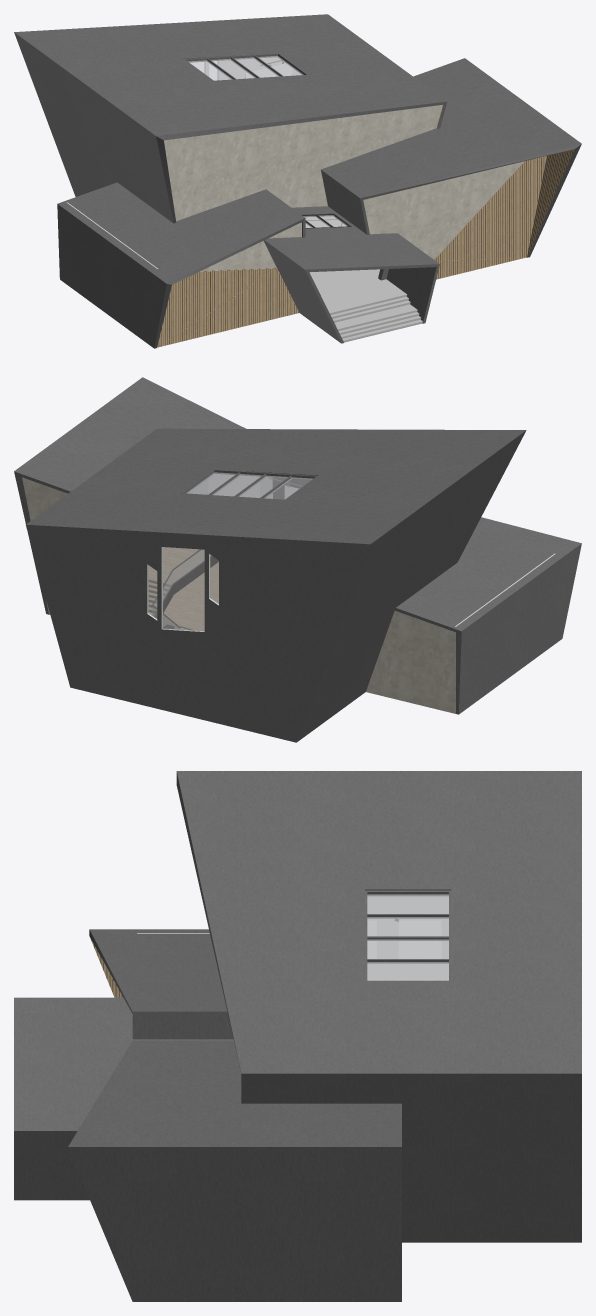
The model's file is Art Gallery Binus Digital.fbx.
3 renders of one model, top to bottom at view 1: azimuth 30°, elevation 25°; view 2: azimuth 150°, elevation 25°; view 3: azimuth 270°, elevation 25°, orthographic. The views are drawn at different scales.
Parts seen in each view (by area): view 1: Gallery Group, Group1-grey_ind.001; view 2: Gallery Group, Group1-grey_ind.001, Square Picture.026; view 3: Gallery Group, Square Picture.008.
Part boxes in pixels (bbox=[...]): Gallery Group: bbox=[14, 14, 581, 348]; Group1-grey_ind.001: bbox=[309, 269, 422, 342]; Gallery Group: bbox=[14, 377, 581, 742]; Group1-grey_ind.001: bbox=[148, 547, 218, 630]; Square Picture.026: bbox=[208, 474, 259, 497]; Gallery Group: bbox=[14, 771, 581, 1301]; Square Picture.008: bbox=[398, 920, 441, 958].
Size of the model in its own units: 2926 by 1352 by 2476.
